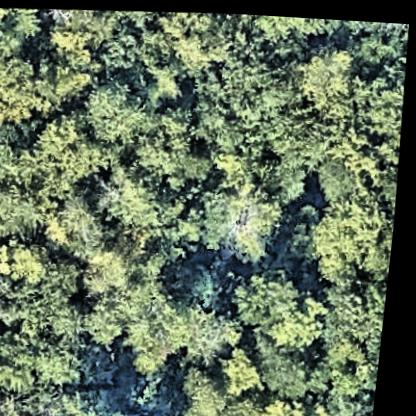tree-top: (209, 63, 328, 191), (193, 175, 289, 258), (333, 68, 409, 167), (22, 107, 111, 191), (0, 228, 82, 319), (315, 192, 399, 278), (249, 269, 338, 348), (122, 273, 193, 370), (104, 162, 193, 239), (0, 43, 81, 127), (0, 319, 90, 394), (236, 257, 320, 336), (327, 272, 394, 356), (82, 71, 159, 144), (136, 100, 209, 177), (180, 294, 254, 367), (297, 38, 363, 114), (160, 8, 237, 69), (24, 377, 140, 416), (0, 173, 62, 240), (263, 337, 327, 398), (41, 5, 120, 54), (80, 239, 143, 298), (178, 361, 242, 416), (221, 338, 277, 397), (77, 290, 132, 344), (243, 388, 339, 416), (312, 150, 364, 200), (243, 11, 322, 38), (349, 26, 397, 67), (0, 5, 48, 32), (0, 387, 43, 416)
